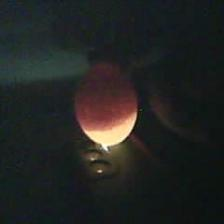fertile: (73, 62, 138, 147)
